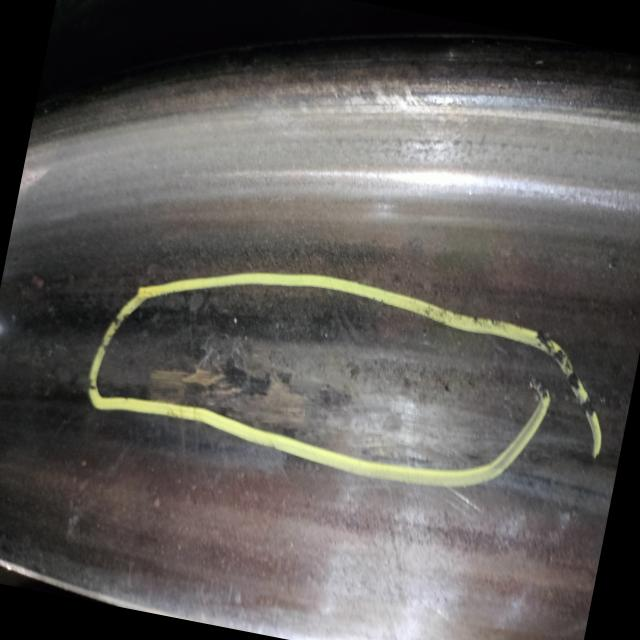flat: (126, 293, 432, 453)
